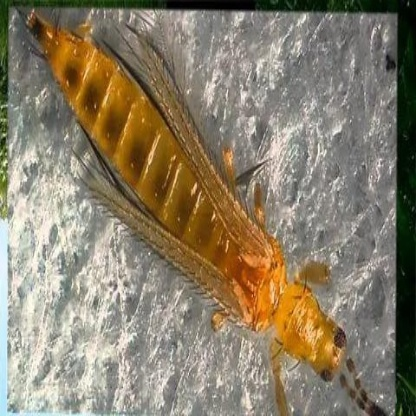Thrips: (27, 14, 385, 411)
